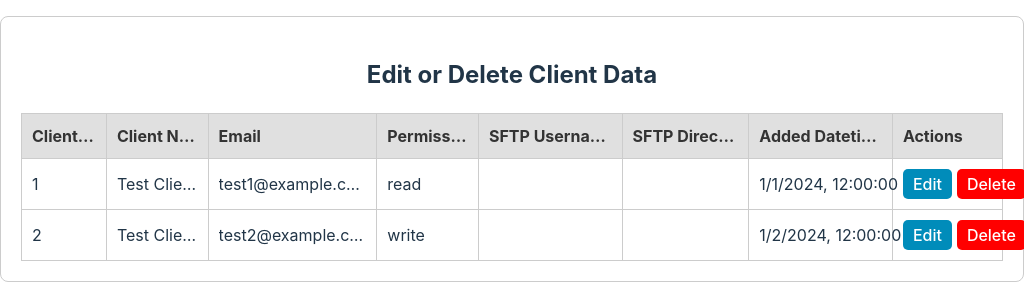
Test: EditClientPage › handles client deletion
This screenshot has width=1036, height=299.
Expected: the text "Test Client 1" is shown, [117,172,198,196]
Click the button "Delete" in the row of "Test Client 1": (990, 184) [957,169,1024,199]
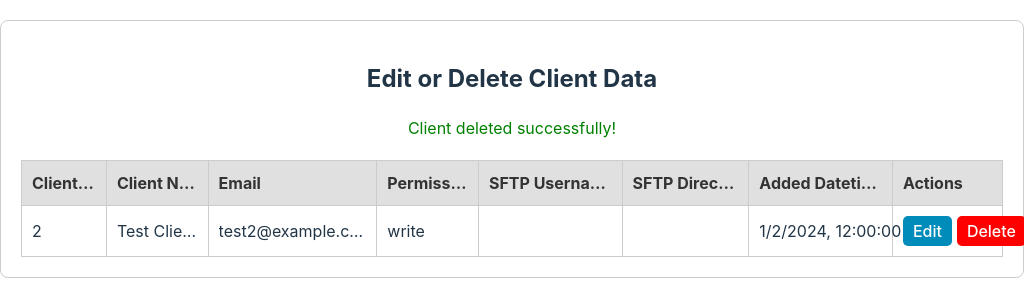
Expected: the text "Client deleted successfully!" is shown, [408,118,616,138]
